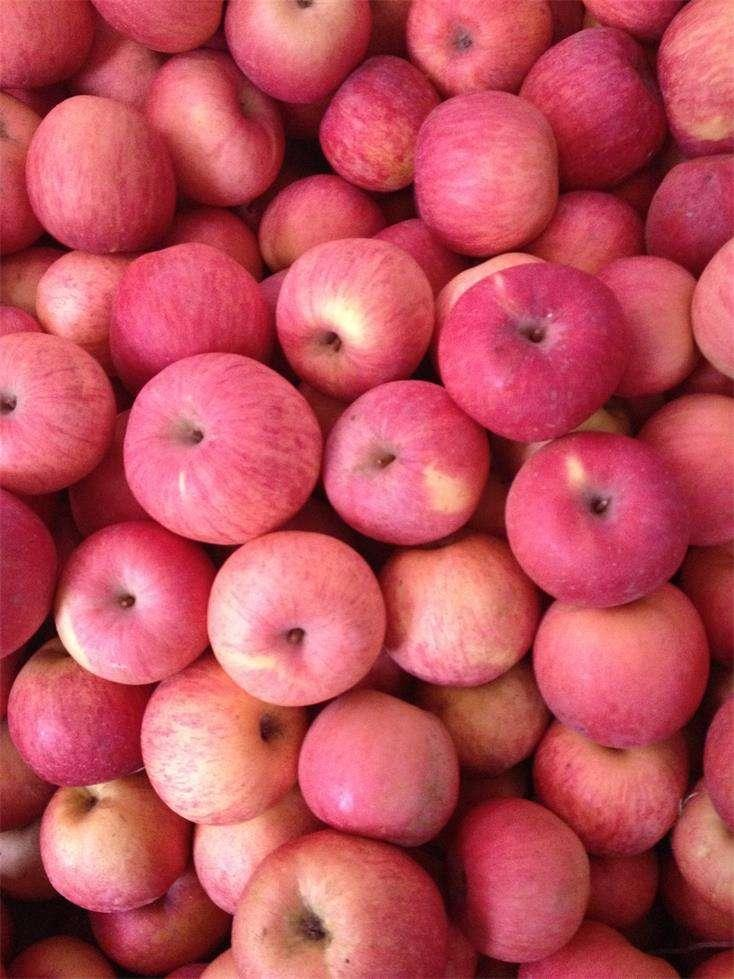apple: (118, 350, 325, 540), (434, 259, 626, 446), (222, 837, 474, 979), (205, 528, 385, 708), (507, 433, 688, 609), (531, 582, 709, 747), (323, 376, 493, 544), (139, 656, 308, 824), (54, 516, 218, 681), (295, 686, 461, 848), (274, 237, 433, 397), (380, 529, 537, 691), (28, 93, 180, 258), (108, 244, 278, 391), (414, 92, 562, 255), (520, 26, 667, 189), (448, 796, 587, 965), (142, 50, 286, 205), (531, 722, 691, 860), (37, 771, 192, 912), (6, 639, 151, 786), (1, 327, 113, 495), (316, 56, 431, 195), (224, 1, 370, 106), (598, 253, 697, 402), (405, 1, 550, 98), (655, 1, 733, 161), (642, 154, 732, 274), (673, 787, 734, 912), (688, 237, 733, 382), (1, 719, 52, 830)
